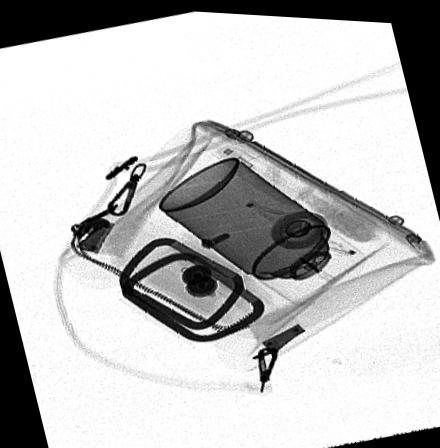Sprayer: (158, 153, 367, 301)
